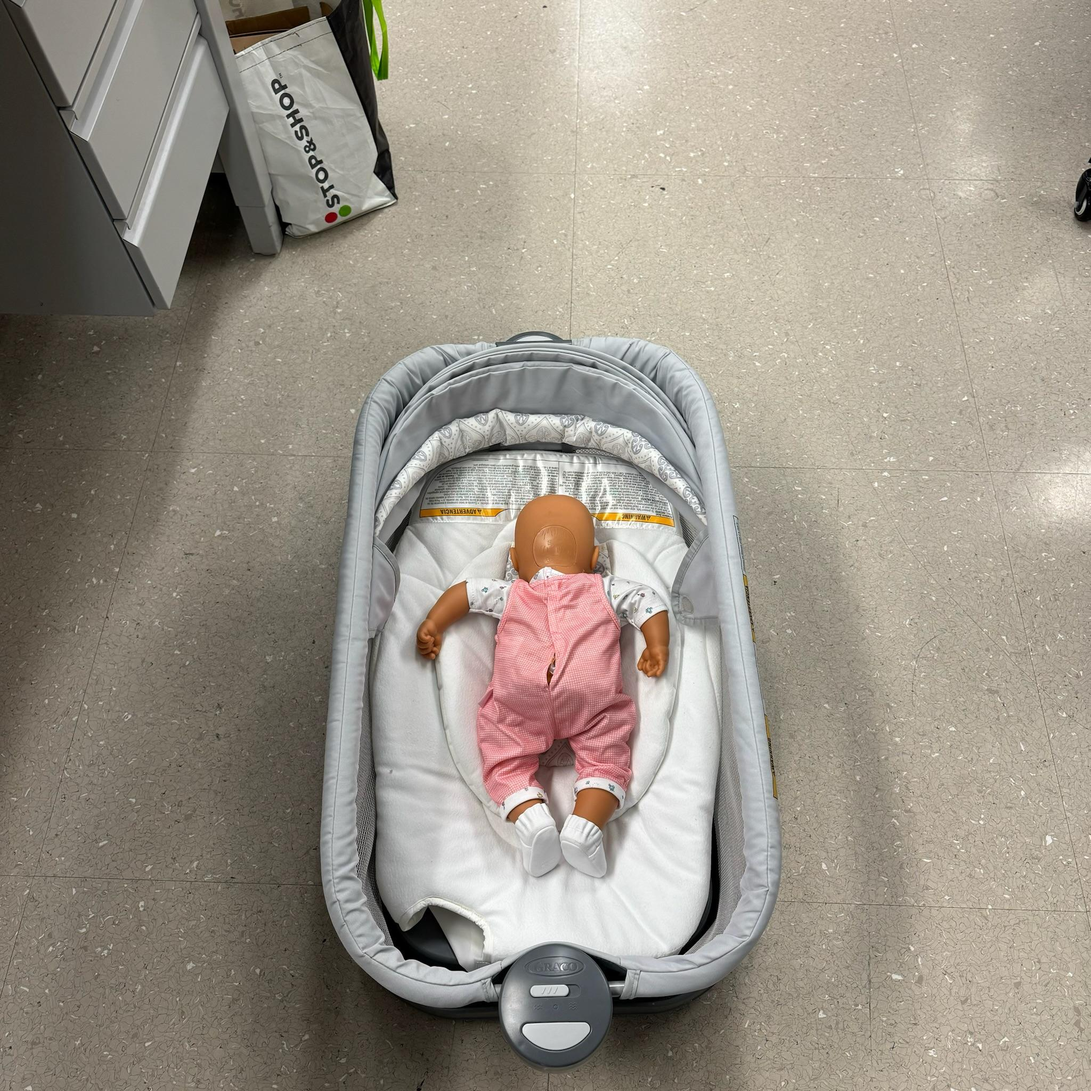baby: (416, 488, 674, 875)
